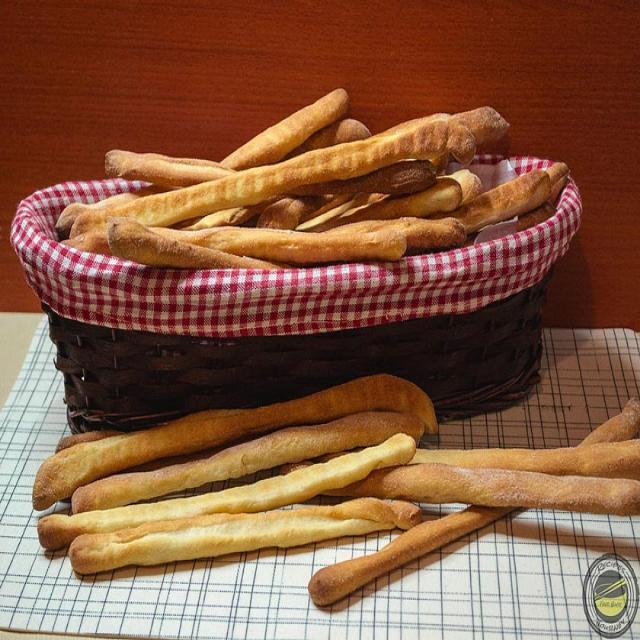Grissini: (30, 370, 634, 590), (54, 89, 575, 267)
